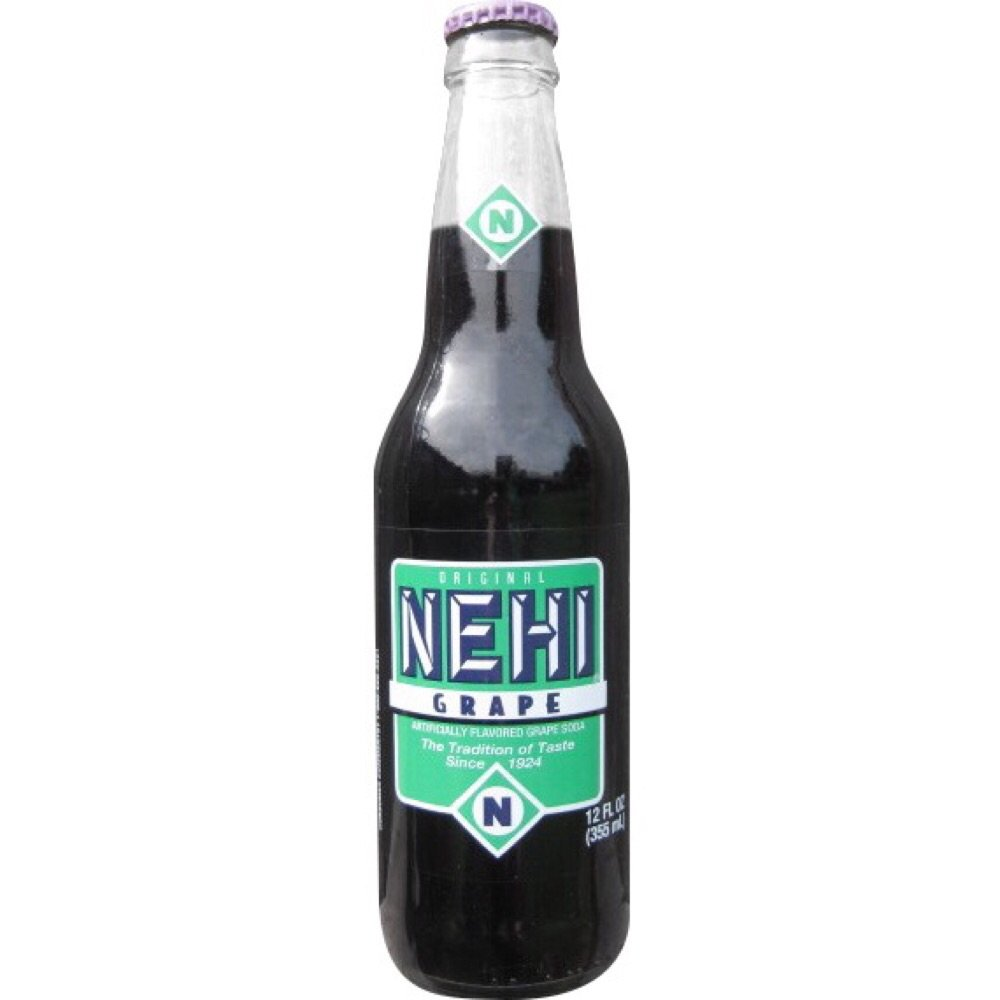Rec_Glass: (341, 1, 655, 989)
